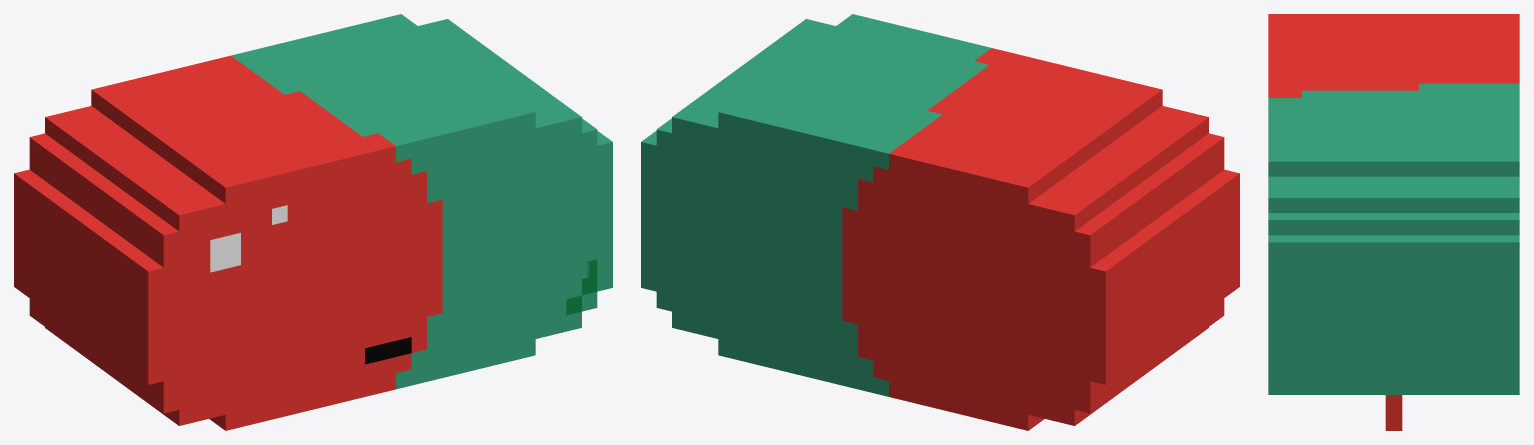
The model's file is pill.glb.
3 renders of one model, left to right at view 1: azimuth 30°, elevation 25°; view 2: azimuth 150°, elevation 25°; view 3: azimuth 270°, elevation 25°, orthographic. The views are drawn at different scales.
Parts seen in each view (by area): view 1: pill, side-red, mouth; view 2: pill, side-red, side-green; view 3: pill, side-green, monture.
Boxes of the visible parts, box(x1,y1,x2,y2) form: pill: box(14, 14, 612, 430); side-red: box(78, 106, 225, 416); mouth: box(365, 337, 411, 364); pill: box(641, 14, 1239, 430); side-red: box(1028, 106, 1175, 405); side-green: box(656, 126, 718, 338); pill: box(1268, 14, 1519, 394); side-green: box(1268, 176, 1518, 183); monture: box(1385, 395, 1402, 430).
Size of the model in its own units: 30 by 18 by 15.
11 materials, 11 textured.
